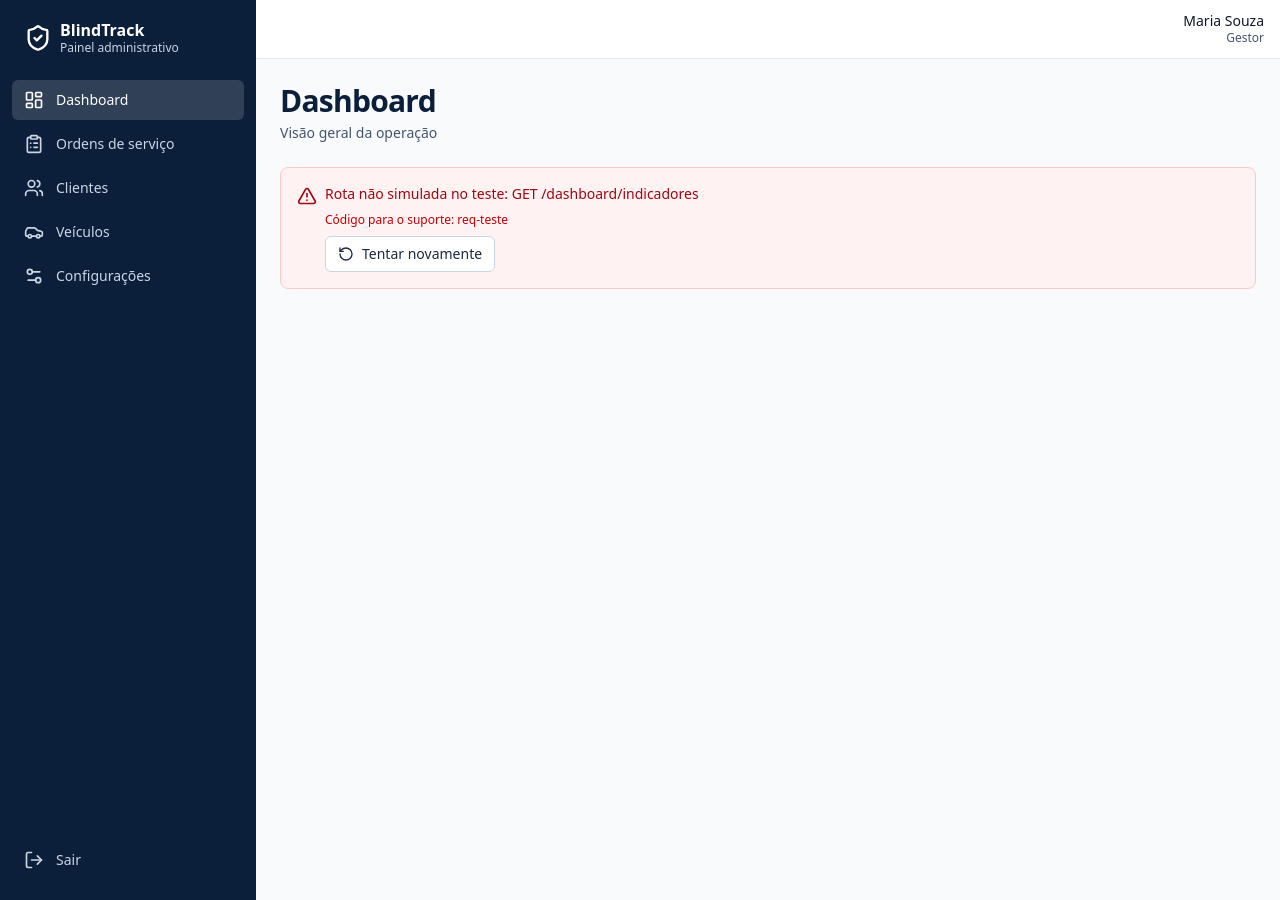
Test: Logout e sessão expirada › se o logout falhar na rede, a sessão local é encerrada mesmo assim
The width and height of the screenshot is (1280, 900).
Click the button "Sair" at (128,860), box [12,840,244,880]
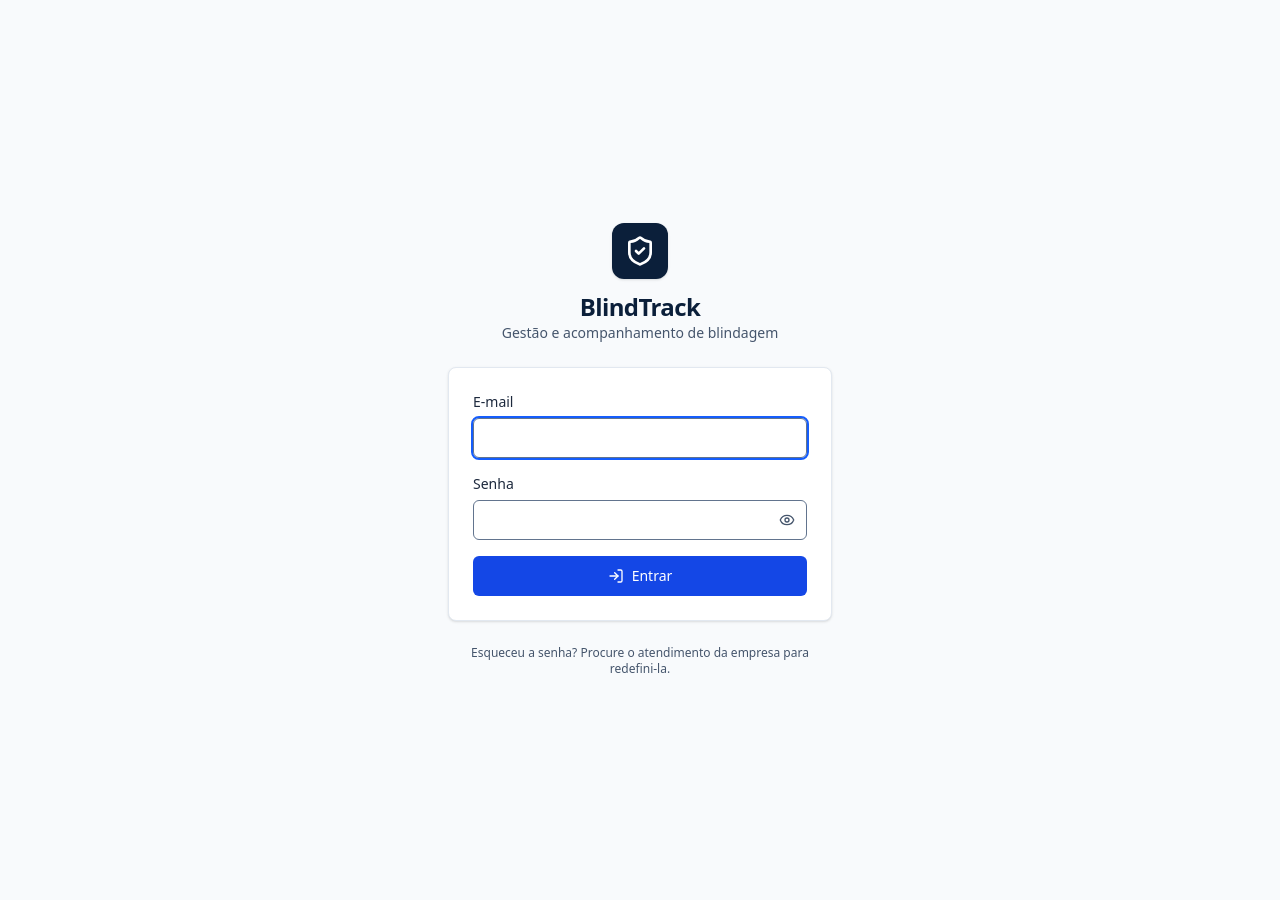
Now the field labelled "E-mail" is shown, box [473,418,807,458]
